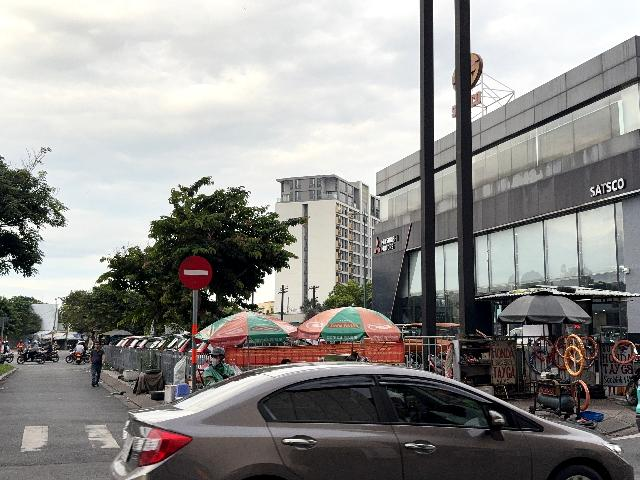cam-di-nguoc-chieu: (178, 256, 213, 290)
